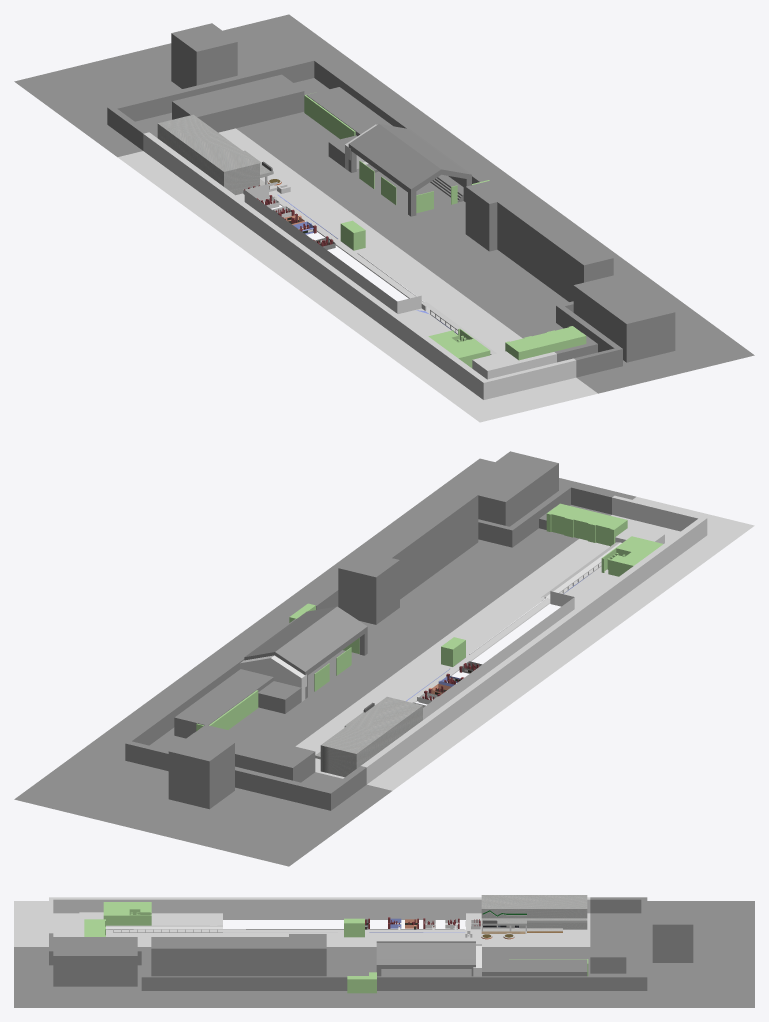
File: msu3.glb
The picture shows the model from 3 angles, top to bottom: view 1: azimuth 30°, elevation 25°; view 2: azimuth 150°, elevation 25°; view 3: azimuth 270°, elevation 25°; orthographic projection. The views are drawn at different scales.
Visible parts, largest first — view 1: Plane, Cube.076, Plane.001, Cube.005, Cube.069; view 2: Plane, Cube.076, Cube.005, Plane.001, Cube.069, Cube.033; view 3: Plane, Cube.076, Plane.001, Cube.005, Cube.069, Cube.033.
Part boxes in pixels (<box>): Plane: <box>14,14,754,393</box>; Cube.076: <box>118,128,597,422</box>; Plane.001: <box>157,114,273,195</box>; Cube.005: <box>304,93,586,360</box>; Cube.069: <box>428,328,490,368</box>; Plane: <box>14,451,635,866</box>; Cube.076: <box>295,495,754,790</box>; Cube.005: <box>196,503,627,730</box>; Plane.001: <box>315,696,422,777</box>; Cube.069: <box>601,536,663,576</box>; Cube.033: <box>240,655,306,701</box>; Plane: <box>14,897,754,1007</box>; Cube.076: <box>14,897,590,946</box>; Plane.001: <box>481,895,587,933</box>; Cube.005: <box>84,918,588,993</box>; Cube.069: <box>103,902,151,925</box>; Cube.033: <box>473,944,481,976</box>.
Size of the model in its own units: 286 by 53.6 by 840.
Materials: 38 (6 with a texture image).
